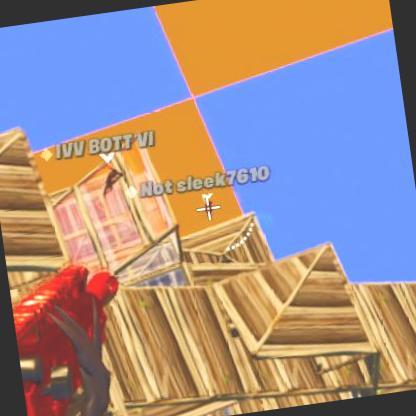person: (8, 268, 141, 416), (106, 156, 119, 192)
